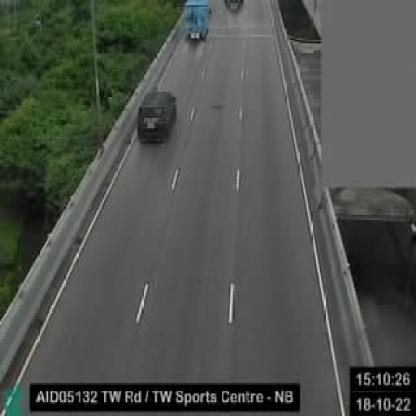Car: (135, 90, 178, 146)
Truck: (182, 0, 212, 42)
